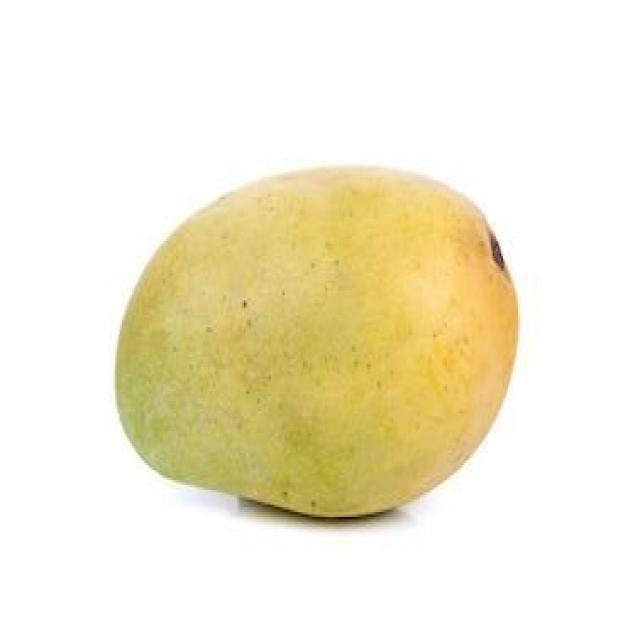mango: (102, 158, 526, 526)
